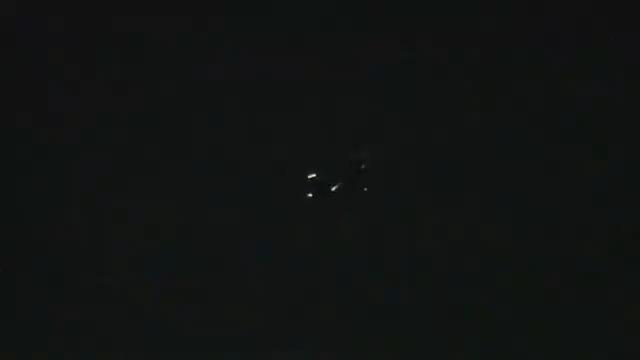Plane: (261, 160, 410, 208)
